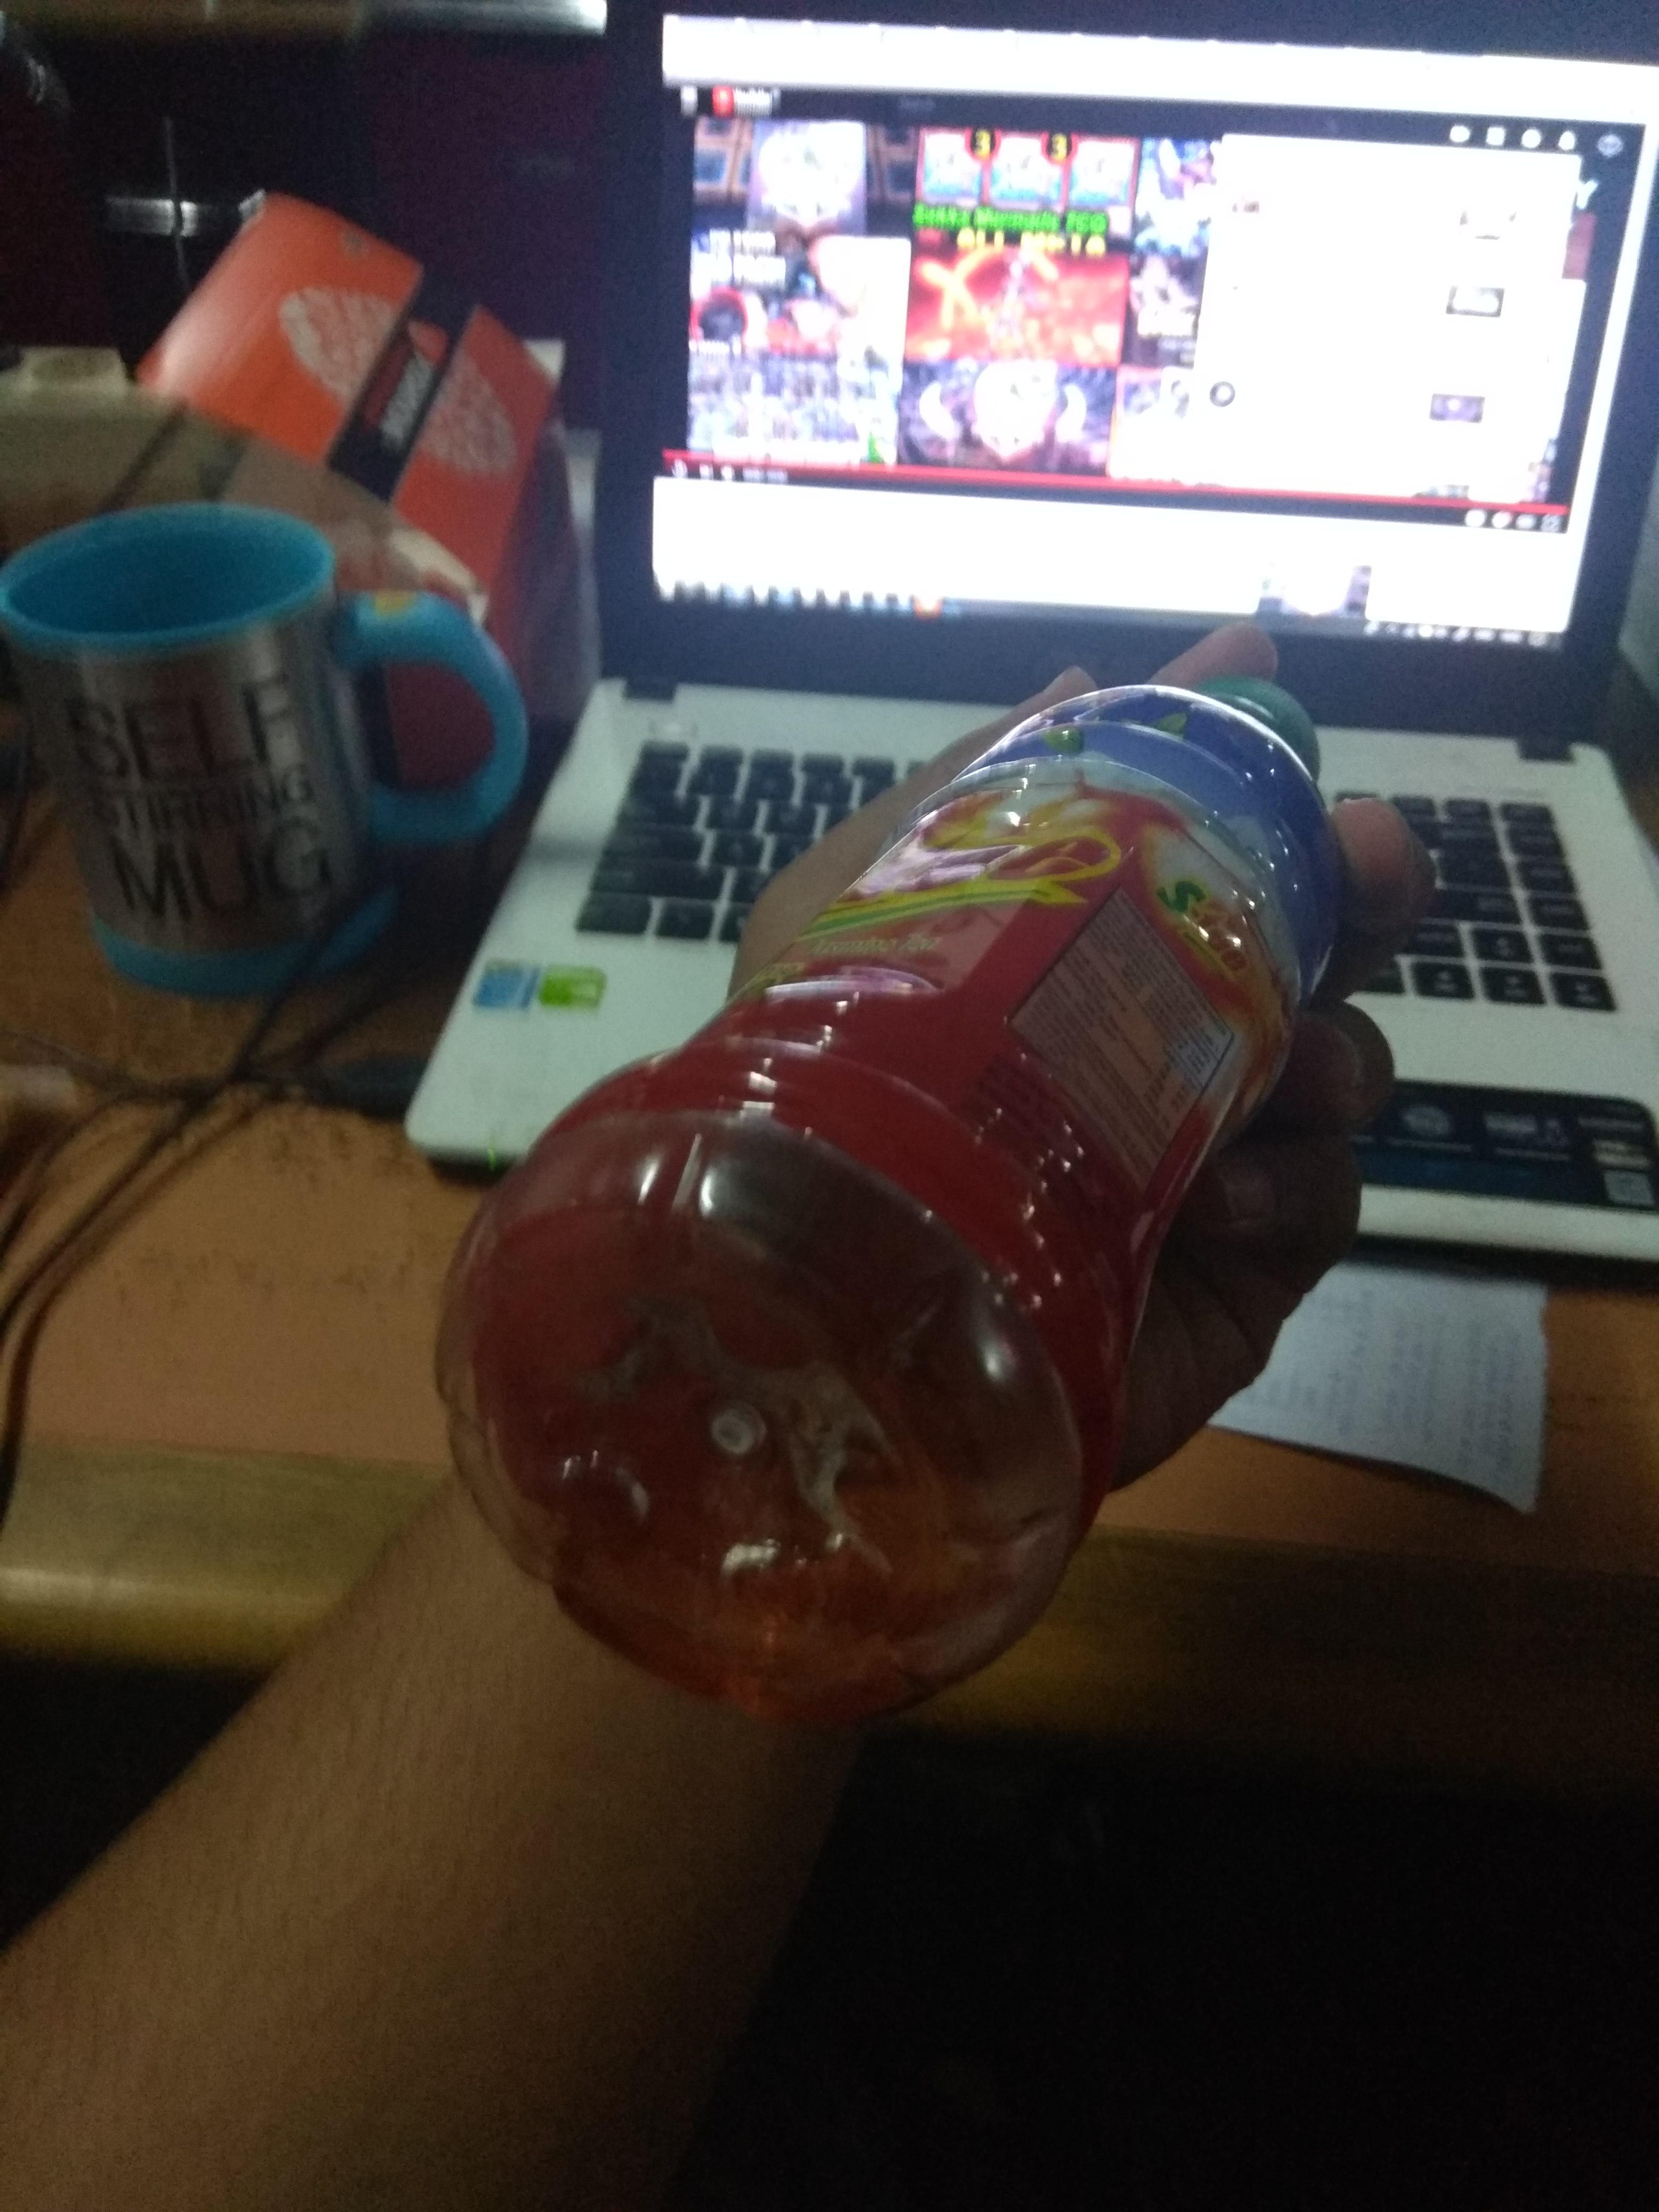botol: (430, 577, 1337, 1724), (430, 672, 1337, 1724), (565, 577, 1337, 1724)
